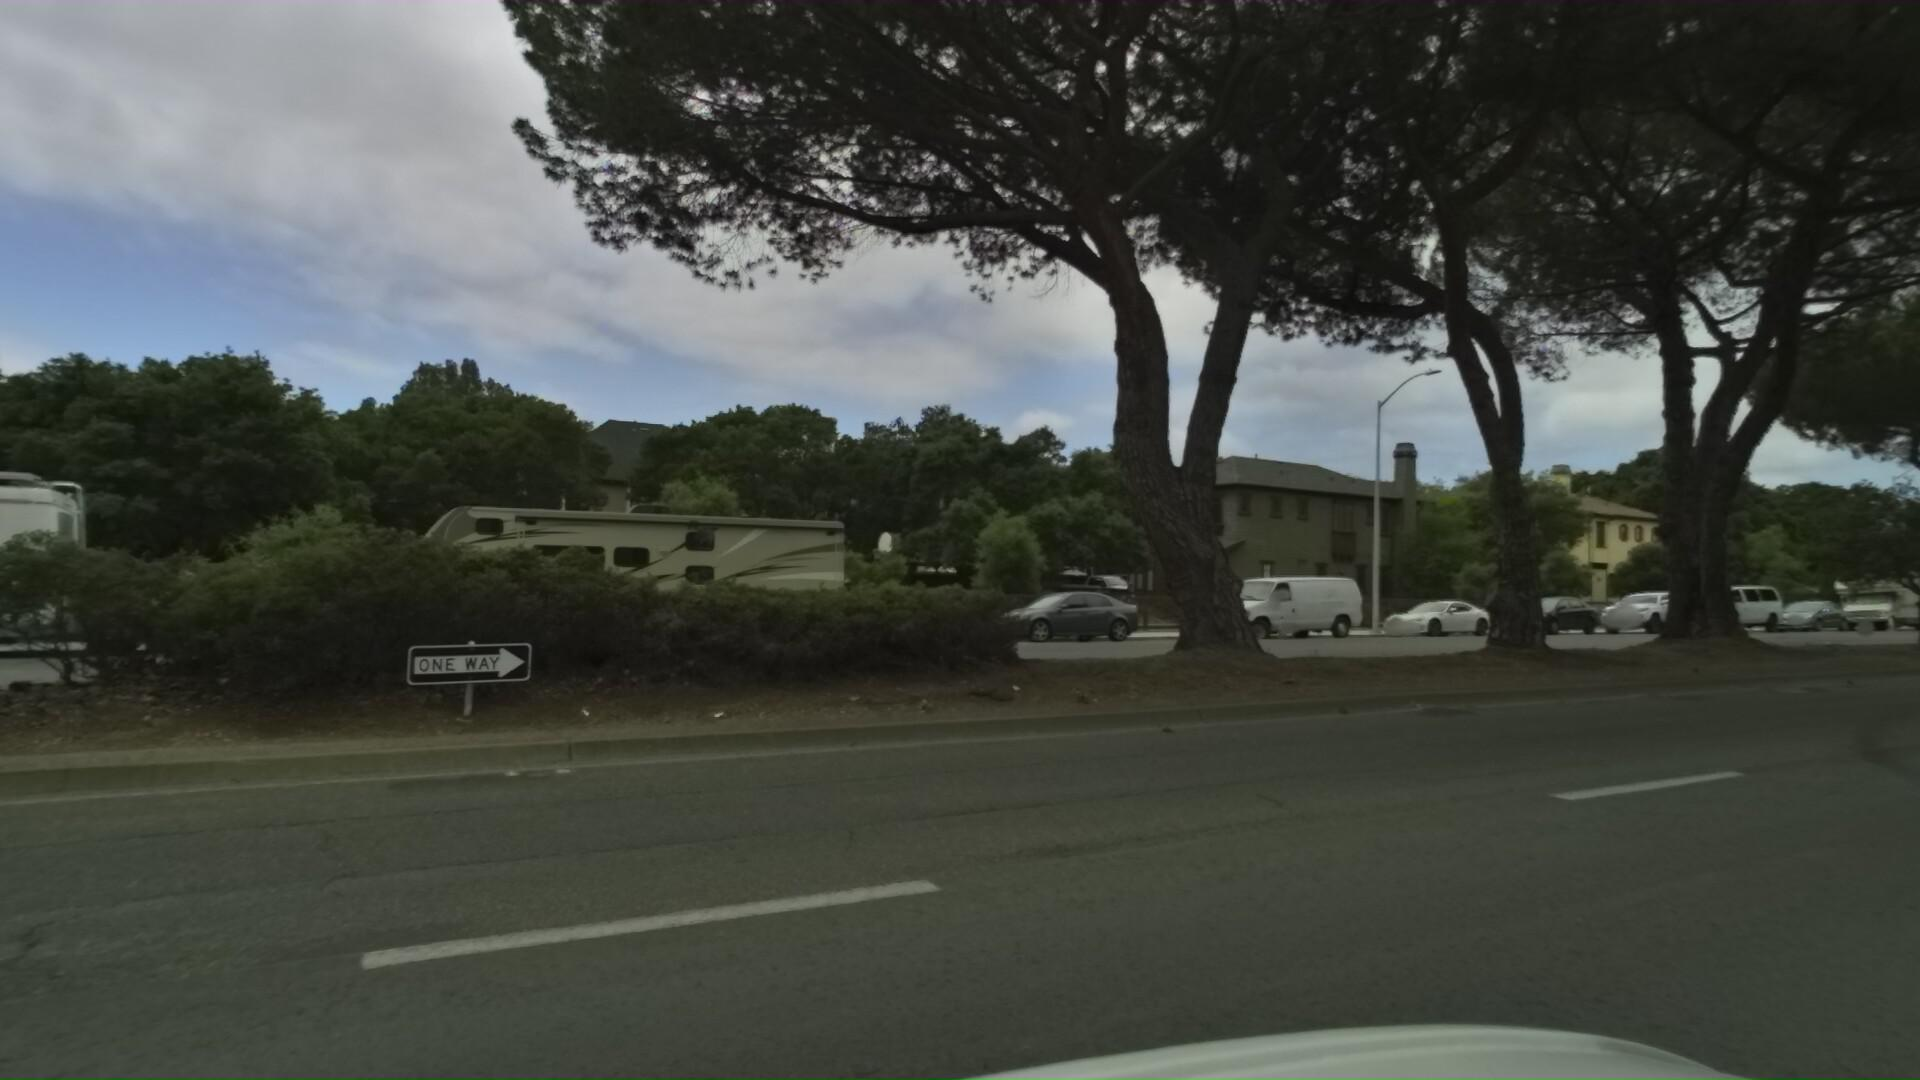car: (1176, 559, 1366, 637), (948, 576, 1139, 646), (1576, 578, 1706, 632), (1655, 572, 1780, 626), (1358, 588, 1489, 634), (1481, 584, 1598, 632), (1753, 587, 1847, 624), (1912, 592, 1920, 622)
other_vehicle: (340, 472, 884, 651), (0, 382, 73, 687), (1816, 556, 1920, 622)
